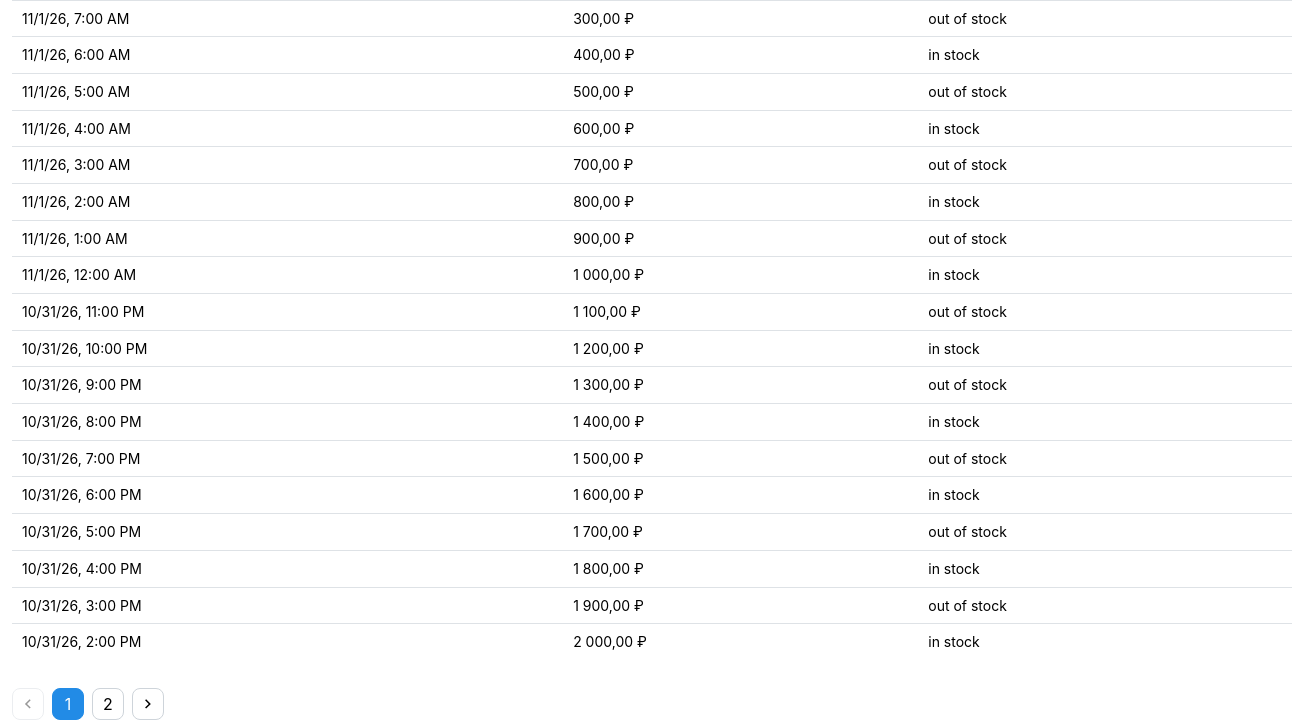
Test: pages through a long history
(page scrolled)
What coordinates should you click on to do the following:
click the button "2"
I would click on:
 (108, 704)
Its box is [92, 688, 124, 719].
(page scrolled)
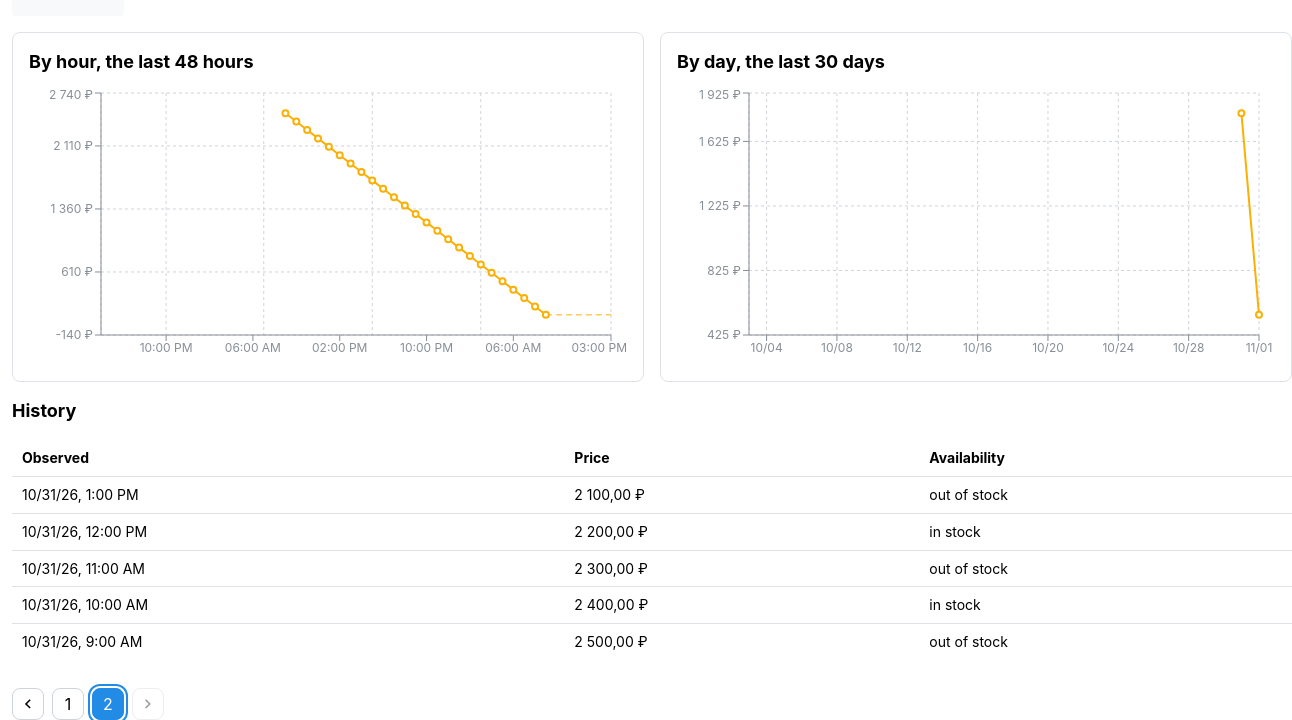
Check: the number of rows is 6, box [12, 440, 1291, 477]; [12, 477, 1291, 513]; [12, 513, 1291, 550]; [12, 550, 1291, 587]; [12, 587, 1291, 623]; [12, 623, 1291, 660]
